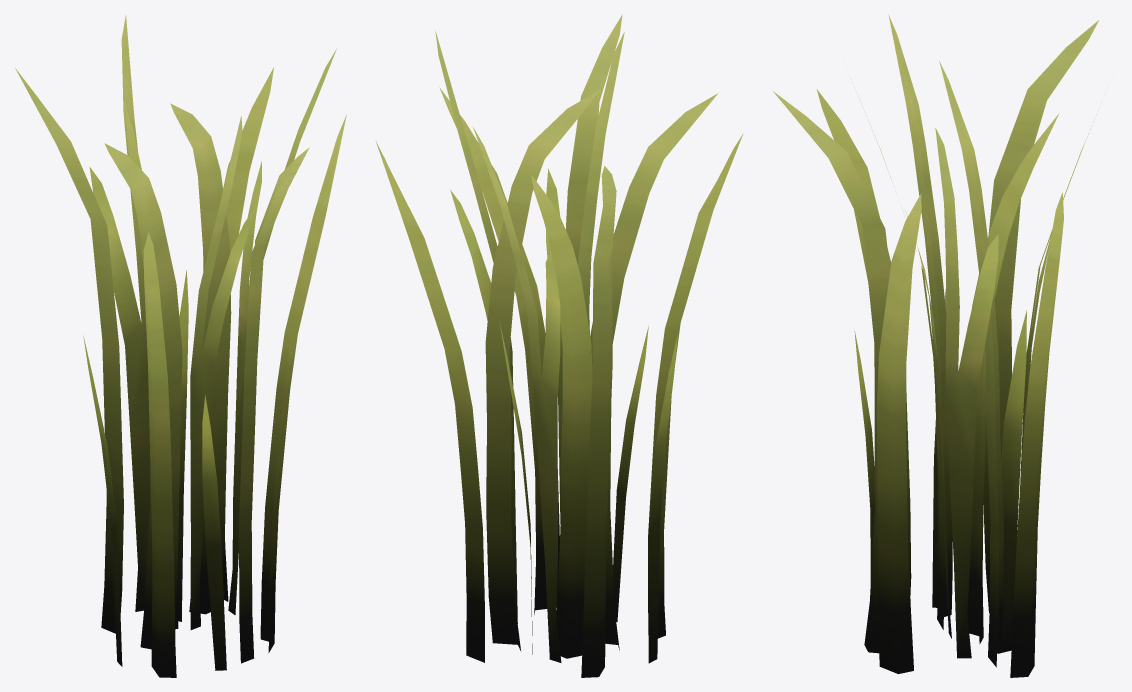
File: Grass_Common_Tall.gltf
3 renders of one model, left to right at view 1: azimuth 30°, elevation 25°; view 2: azimuth 150°, elevation 25°; view 3: azimuth 270°, elevation 25°, orthographic. The views are drawn at different scales.
Visible parts, largest first — view 1: Grass_Common_Tall; view 2: Grass_Common_Tall; view 3: Grass_Common_Tall.
Part boxes in pixels (x1,y1,x2,y2): Grass_Common_Tall: (15, 15, 346, 677); Grass_Common_Tall: (375, 14, 743, 677); Grass_Common_Tall: (773, 15, 1101, 677).
Size of the model in its own units: 0.8951 by 1.87 by 0.9931.
Materials: 1 (1 with a texture image).
